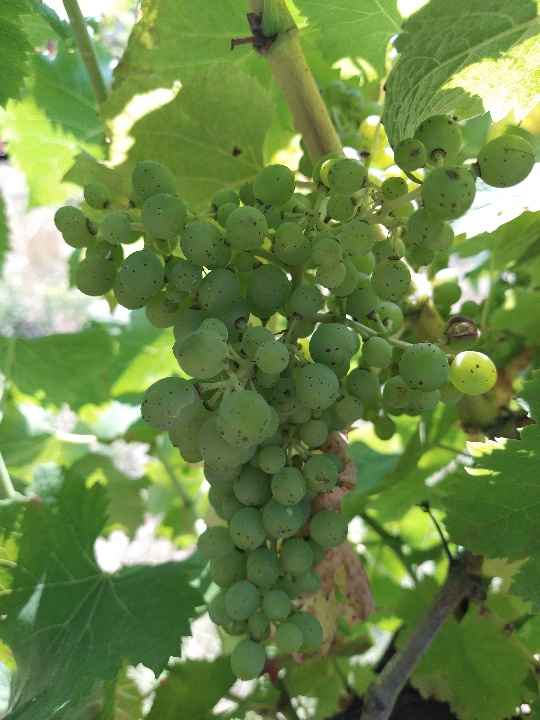grape: (51, 115, 538, 686)
